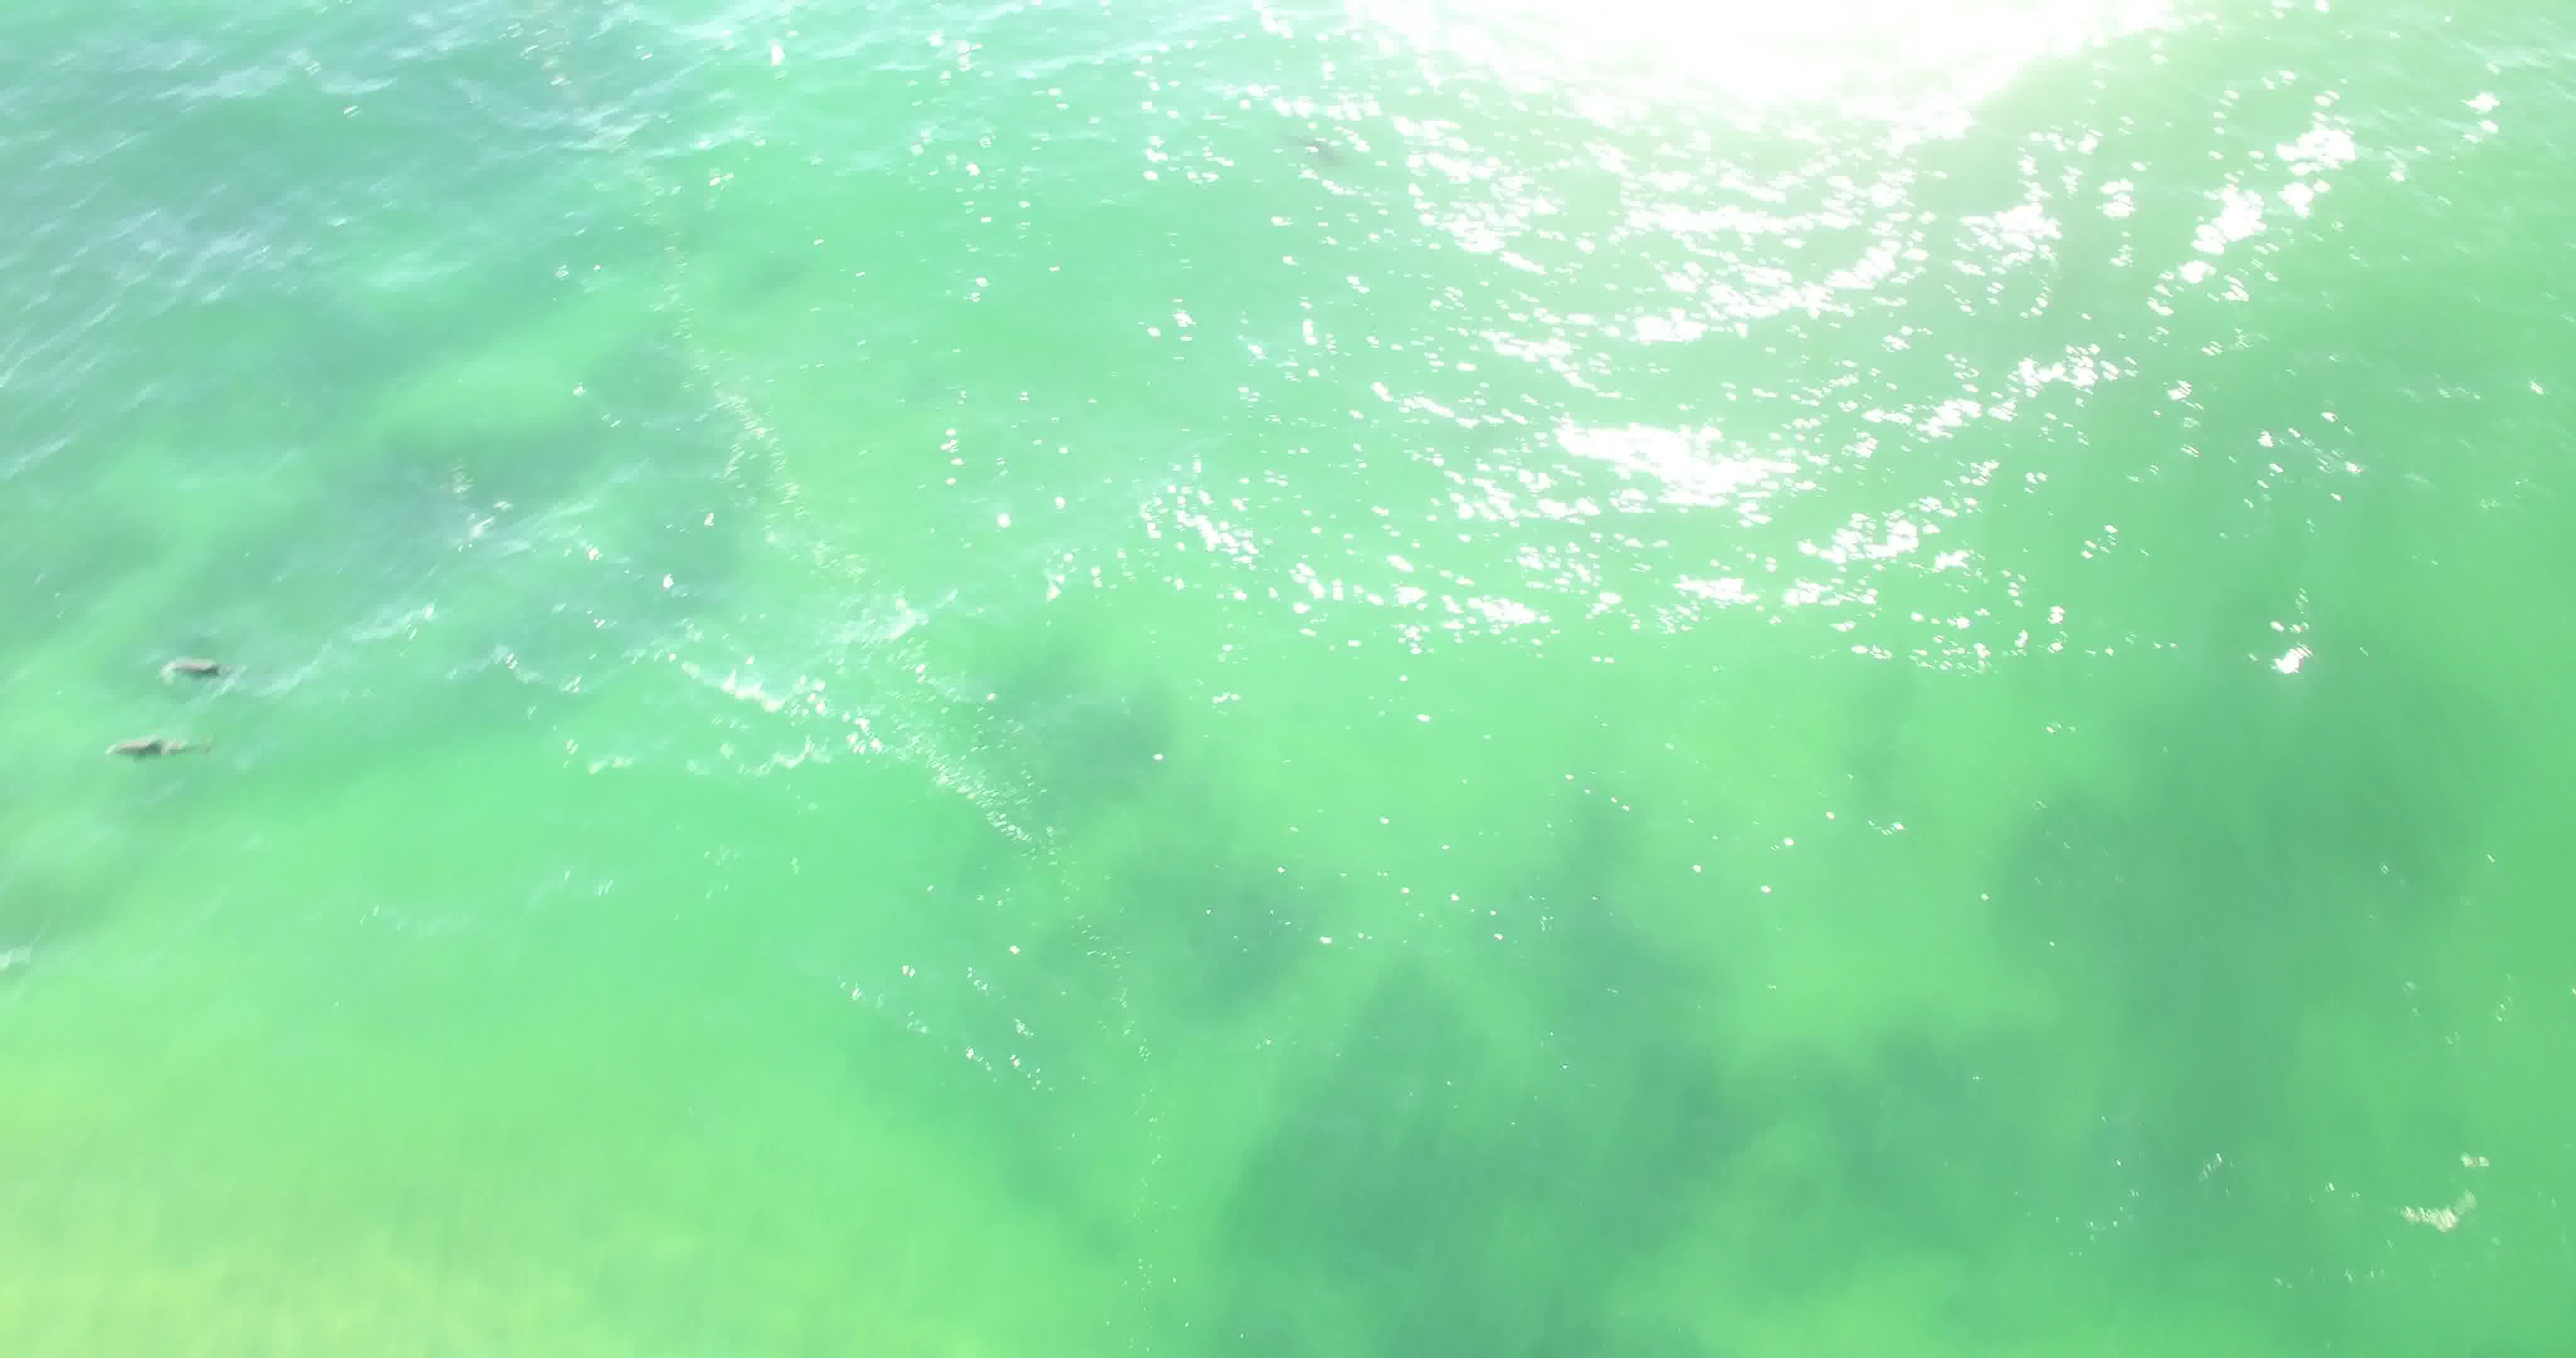dolphin: (87, 711, 227, 775), (128, 641, 259, 697), (1288, 112, 1360, 181)
